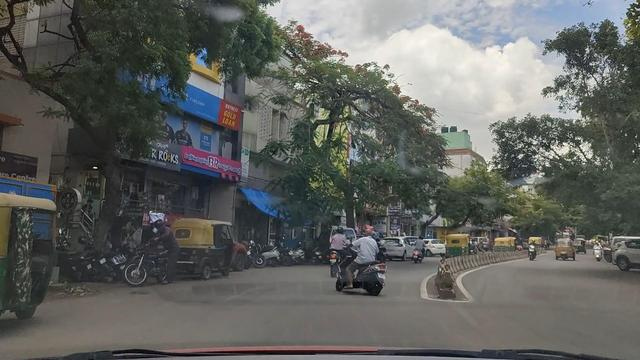LMV: (2, 198, 52, 312), (319, 233, 394, 297), (141, 215, 192, 299), (178, 219, 233, 271)
